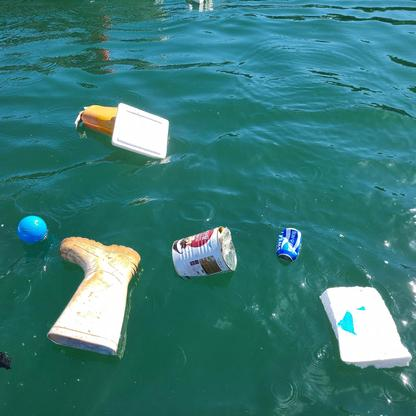can: (276, 226, 302, 261)
foam: (324, 286, 412, 369), (113, 99, 171, 159)
